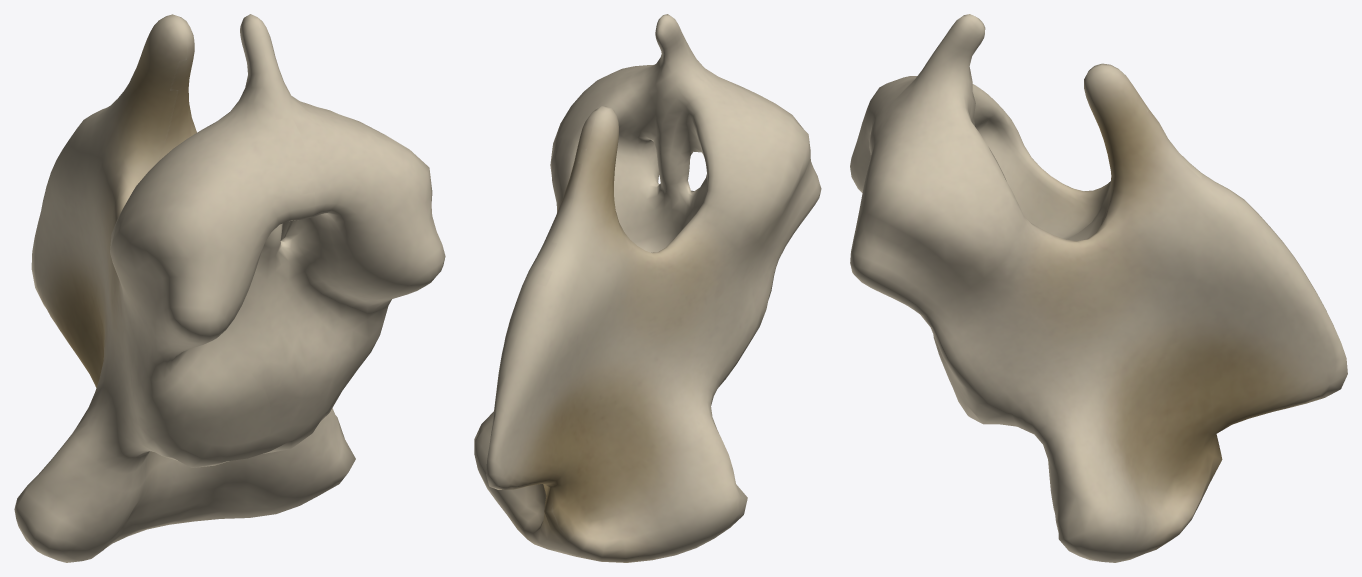
Rendered from vertebra cervicalis 2 axis.fbx.
The picture shows the model from 3 angles, left to right: view 1: azimuth 30°, elevation 25°; view 2: azimuth 150°, elevation 25°; view 3: azimuth 270°, elevation 25°; orthographic projection. The views are drawn at different scales.
Visible parts, largest first — view 1: vertebra cervicalis 2 axis; view 2: vertebra cervicalis 2 axis; view 3: vertebra cervicalis 2 axis.
Part boxes in pixels (x1,y1,x2,y2): vertebra cervicalis 2 axis: (14, 14, 445, 562); vertebra cervicalis 2 axis: (474, 14, 821, 562); vertebra cervicalis 2 axis: (850, 14, 1347, 562).
Bounding box in the file's own units: 6.18 × 10.74 × 9.45.
Materials: 1 (1 with a texture image).
